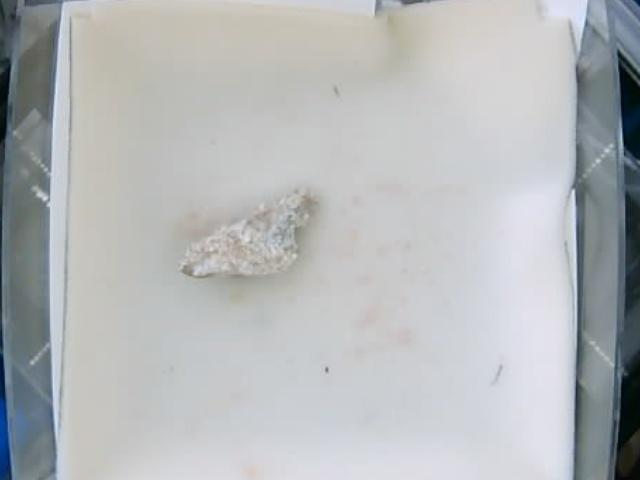Brisk: (175, 186, 315, 284)
